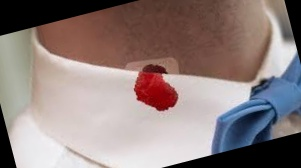blood: (130, 67, 182, 118)
